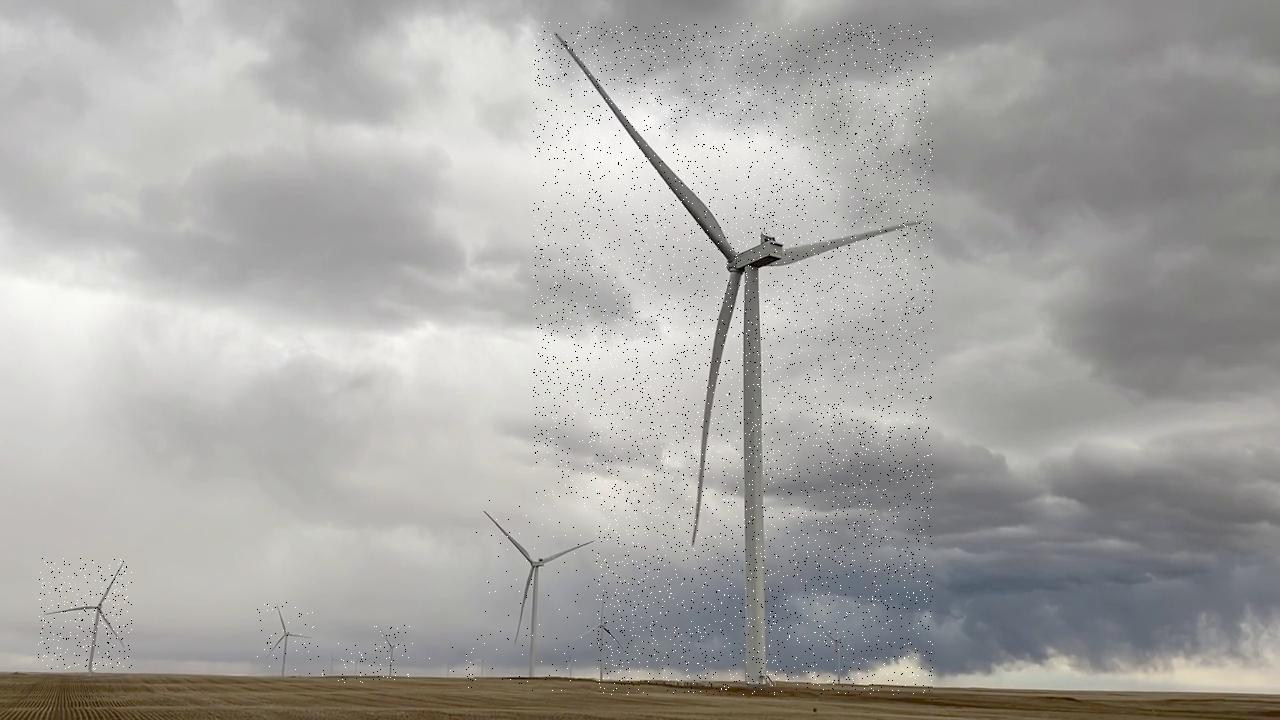turbine: (533, 23, 933, 696), (474, 500, 596, 697), (39, 558, 133, 670), (576, 578, 641, 694), (811, 611, 869, 695), (257, 603, 316, 675), (374, 622, 413, 680), (555, 647, 592, 692), (429, 647, 466, 689), (466, 647, 501, 688), (340, 645, 374, 683), (317, 643, 341, 682)
